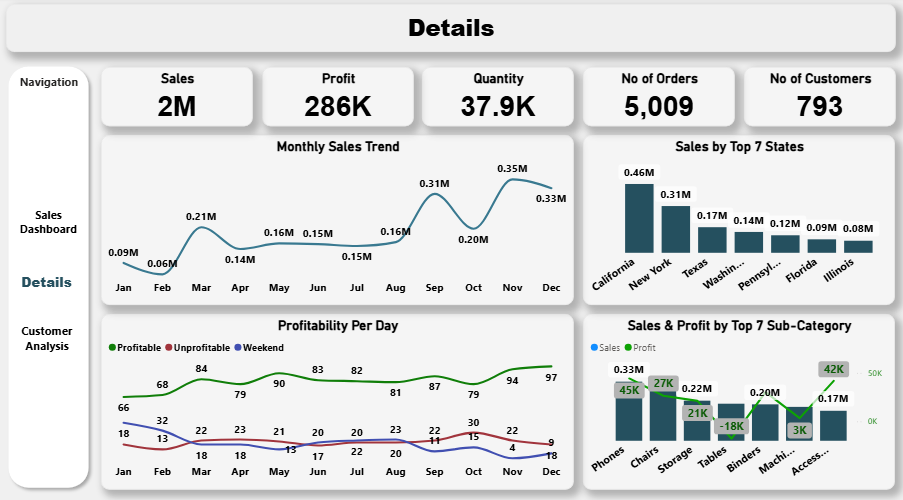

Layout of this report page (visuals, bound fields, positions):
{"tool":"powerbi","page":{"name":"Details","canvas":[1280,720],"ordinal":1},"visuals":[{"type":"textbox","box":[8.5,9.9,1261.4,68],"z":0},{"type":"shape","box":[2.8,89.3,131.8,615.1],"z":0,"group":"g2"},{"type":"card","title":"Sales","fields":{"Values":["All_Measures.Sales"]},"box":[143.1,99.2,215.4,83.6],"z":0,"group":"g1"},{"type":"card","fields":{"Values":["All_Measures.Sales Arrow"]},"box":[299,99.2,62.4,42.5],"z":1000,"group":"g1"},{"type":"card","title":"Profit","fields":{"Values":["All_Measures.Profit"]},"box":[371,99.2,215.4,83.6],"z":1000},{"type":"textbox","box":[18.4,103.5,102,41.1],"z":1000,"group":"g2"},{"type":"card","title":"Quantity","fields":{"Values":["All_Measures.Quantity"]},"box":[598.8,99.2,215.4,83.6],"z":2000},{"type":"card","fields":{"Values":["All_Measures.% Var LY_Sales"]},"box":[284.6,141.4,76.5,41.1],"z":2000,"group":"g1"},{"type":"actionButton","box":[5.6,275,126.1,85],"z":2000,"group":"g2"},{"type":"card","title":"No of Orders","fields":{"Values":["All_Measures.No of Orders"]},"box":[826.7,99.2,215.4,83.6],"z":3000},{"type":"actionButton","box":[7.3,371.5,117.6,62.4],"z":3000,"group":"g2"},{"type":"card","title":"No of Customers","fields":{"Values":["All_Measures.No of Customers"]},"box":[1054.5,99.2,215.4,83.6],"z":4000},{"type":"actionButton","box":[8.5,445,116.2,75.1],"z":4000,"group":"g2"},{"type":"group","id":"g1","title":"Group 1","box":[143.1,99.2,218.3,83.6],"z":5000},{"type":"lineChart","title":"Monthly Sales Trend","fields":{"Category":["Calendar.Month Name"],"Y":["All_Measures.Sales"]},"box":[143.1,195.6,670.4,240.9],"z":6000},{"type":"lineChart","title":"Profitability Per Day","fields":{"Category":["Calendar.Month Name"],"Y":["All_Measures.Profitable","All_Measures.Unprofitable","All_Measures.Weekend"]},"box":[143.1,449.3,670.4,249.4],"z":7000},{"type":"lineStackedColumnComboChart","title":"Sales by Top 7 States","fields":{"Category":["Dim_Region.State"],"Y":["All_Measures.Sales"]},"box":[826.3,195.6,442.2,240.9],"z":8000},{"type":"lineStackedColumnComboChart","title":"Sales & Profit by Top 7 Sub-Category","fields":{"Category":["Dim_Products.Sub-Category"],"Y2":["All_Measures.Profit"],"Y":["All_Measures.Sales"]},"box":[826,449,442,249],"z":9000},{"type":"actionButton","box":[752.6,24.1,235.3,39.7],"z":10000},{"type":"group","id":"g2","title":"Group 2","box":[2.8,89.3,131.8,615.1],"z":14000}]}

Visuals, with their boxes in screenshot pixels (x1, y1, x2, y2), scaled from the page's 1280x720 canvas onto the 903x500 screenshot:
textbox: pyautogui.locateOnScreen(6, 7, 896, 54)
shape: pyautogui.locateOnScreen(2, 62, 95, 489)
"Sales" card: pyautogui.locateOnScreen(101, 69, 253, 127)
card - All_Measures.Sales Arrow: pyautogui.locateOnScreen(211, 69, 255, 98)
"Profit" card: pyautogui.locateOnScreen(262, 69, 414, 127)
textbox: pyautogui.locateOnScreen(13, 72, 85, 100)
"Quantity" card: pyautogui.locateOnScreen(422, 69, 574, 127)
card - All_Measures.% Var LY_Sales: pyautogui.locateOnScreen(201, 98, 255, 127)
actionButton: pyautogui.locateOnScreen(4, 191, 93, 250)
"No of Orders" card: pyautogui.locateOnScreen(583, 69, 735, 127)
actionButton: pyautogui.locateOnScreen(5, 258, 88, 301)
"No of Customers" card: pyautogui.locateOnScreen(744, 69, 896, 127)
actionButton: pyautogui.locateOnScreen(6, 309, 88, 361)
"Group 1" group: pyautogui.locateOnScreen(101, 69, 255, 127)
"Monthly Sales Trend" lineChart: pyautogui.locateOnScreen(101, 136, 574, 303)
"Profitability Per Day" lineChart: pyautogui.locateOnScreen(101, 312, 574, 485)
"Sales by Top 7 States" lineStackedColumnComboChart: pyautogui.locateOnScreen(583, 136, 895, 303)
"Sales & Profit by Top 7 Sub-Category" lineStackedColumnComboChart: pyautogui.locateOnScreen(583, 312, 895, 485)
actionButton: pyautogui.locateOnScreen(531, 17, 697, 44)
"Group 2" group: pyautogui.locateOnScreen(2, 62, 95, 489)
